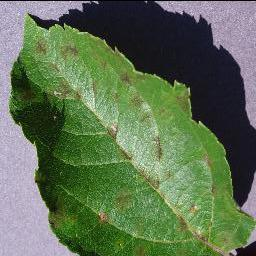apple healthy: (7, 0, 255, 255)
